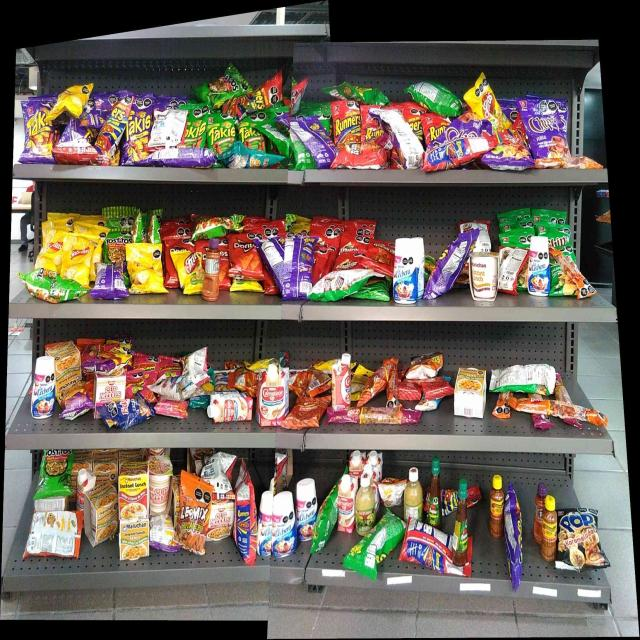bitzEnchilado90: (291, 399, 323, 425)
bitzEnchilado95: (512, 398, 586, 414), (415, 376, 452, 394), (571, 265, 583, 284)
bitzHabanero: (327, 404, 419, 424)
bokadosCacahuates: (100, 400, 154, 425)
botaneraChilito: (542, 496, 558, 557), (489, 473, 504, 535)
cheetosFlaminHot: (62, 388, 91, 421), (94, 347, 130, 371)
chipsFuego: (525, 103, 561, 156)
chipsJalapeno: (552, 264, 566, 296)
churrumais: (126, 373, 148, 397), (134, 354, 158, 372)
delPrimoSalsa: (356, 473, 376, 528), (404, 466, 422, 519)
doritosNacho: (232, 236, 259, 277), (500, 249, 523, 294), (154, 110, 183, 144)
fritosLimon: (476, 89, 500, 126), (181, 253, 202, 291)
leoCacahuates: (158, 374, 196, 396)
leoMix: (180, 485, 208, 551)
maruchanPollo: (84, 488, 118, 544), (456, 364, 486, 419), (120, 520, 150, 560), (58, 346, 82, 386)
nestleCarnation: (256, 362, 277, 427), (208, 393, 253, 421), (337, 473, 356, 533), (331, 351, 351, 404), (76, 468, 96, 488)
nestleLechera: (269, 494, 297, 558), (392, 239, 416, 303), (527, 236, 551, 299), (32, 356, 56, 418), (298, 482, 316, 536)
nissinRes: (119, 465, 149, 517), (208, 495, 234, 540)
popKarameladas: (560, 506, 598, 568)
productoAtras: (28, 509, 82, 558), (406, 521, 449, 574), (492, 360, 555, 392), (294, 116, 334, 163), (284, 236, 310, 300), (356, 532, 395, 572), (412, 77, 459, 109), (312, 272, 364, 296), (152, 148, 208, 167), (263, 238, 283, 290), (151, 511, 176, 550), (208, 455, 234, 492), (95, 262, 123, 294), (295, 369, 326, 396), (468, 222, 491, 251)
rancheritos: (367, 238, 391, 274), (336, 254, 362, 268)
runners: (238, 469, 257, 565), (98, 105, 126, 154), (432, 138, 482, 162), (336, 103, 360, 145), (239, 90, 281, 109), (424, 117, 447, 136)
sabritasOriginal: (130, 245, 164, 291), (68, 237, 91, 284), (42, 232, 62, 271)
salsaBufalo: (456, 481, 468, 566), (428, 456, 443, 520)
semillasCalabaza: (352, 368, 369, 398)
tajinDulce: (203, 237, 220, 301)
takisFuego: (430, 236, 470, 299), (25, 104, 53, 159), (126, 116, 151, 160)
takisOriginal: (208, 115, 235, 149), (238, 122, 265, 150), (186, 118, 206, 148)
tostitos: (41, 446, 72, 494), (29, 272, 68, 296), (205, 76, 238, 103), (106, 232, 126, 260)
